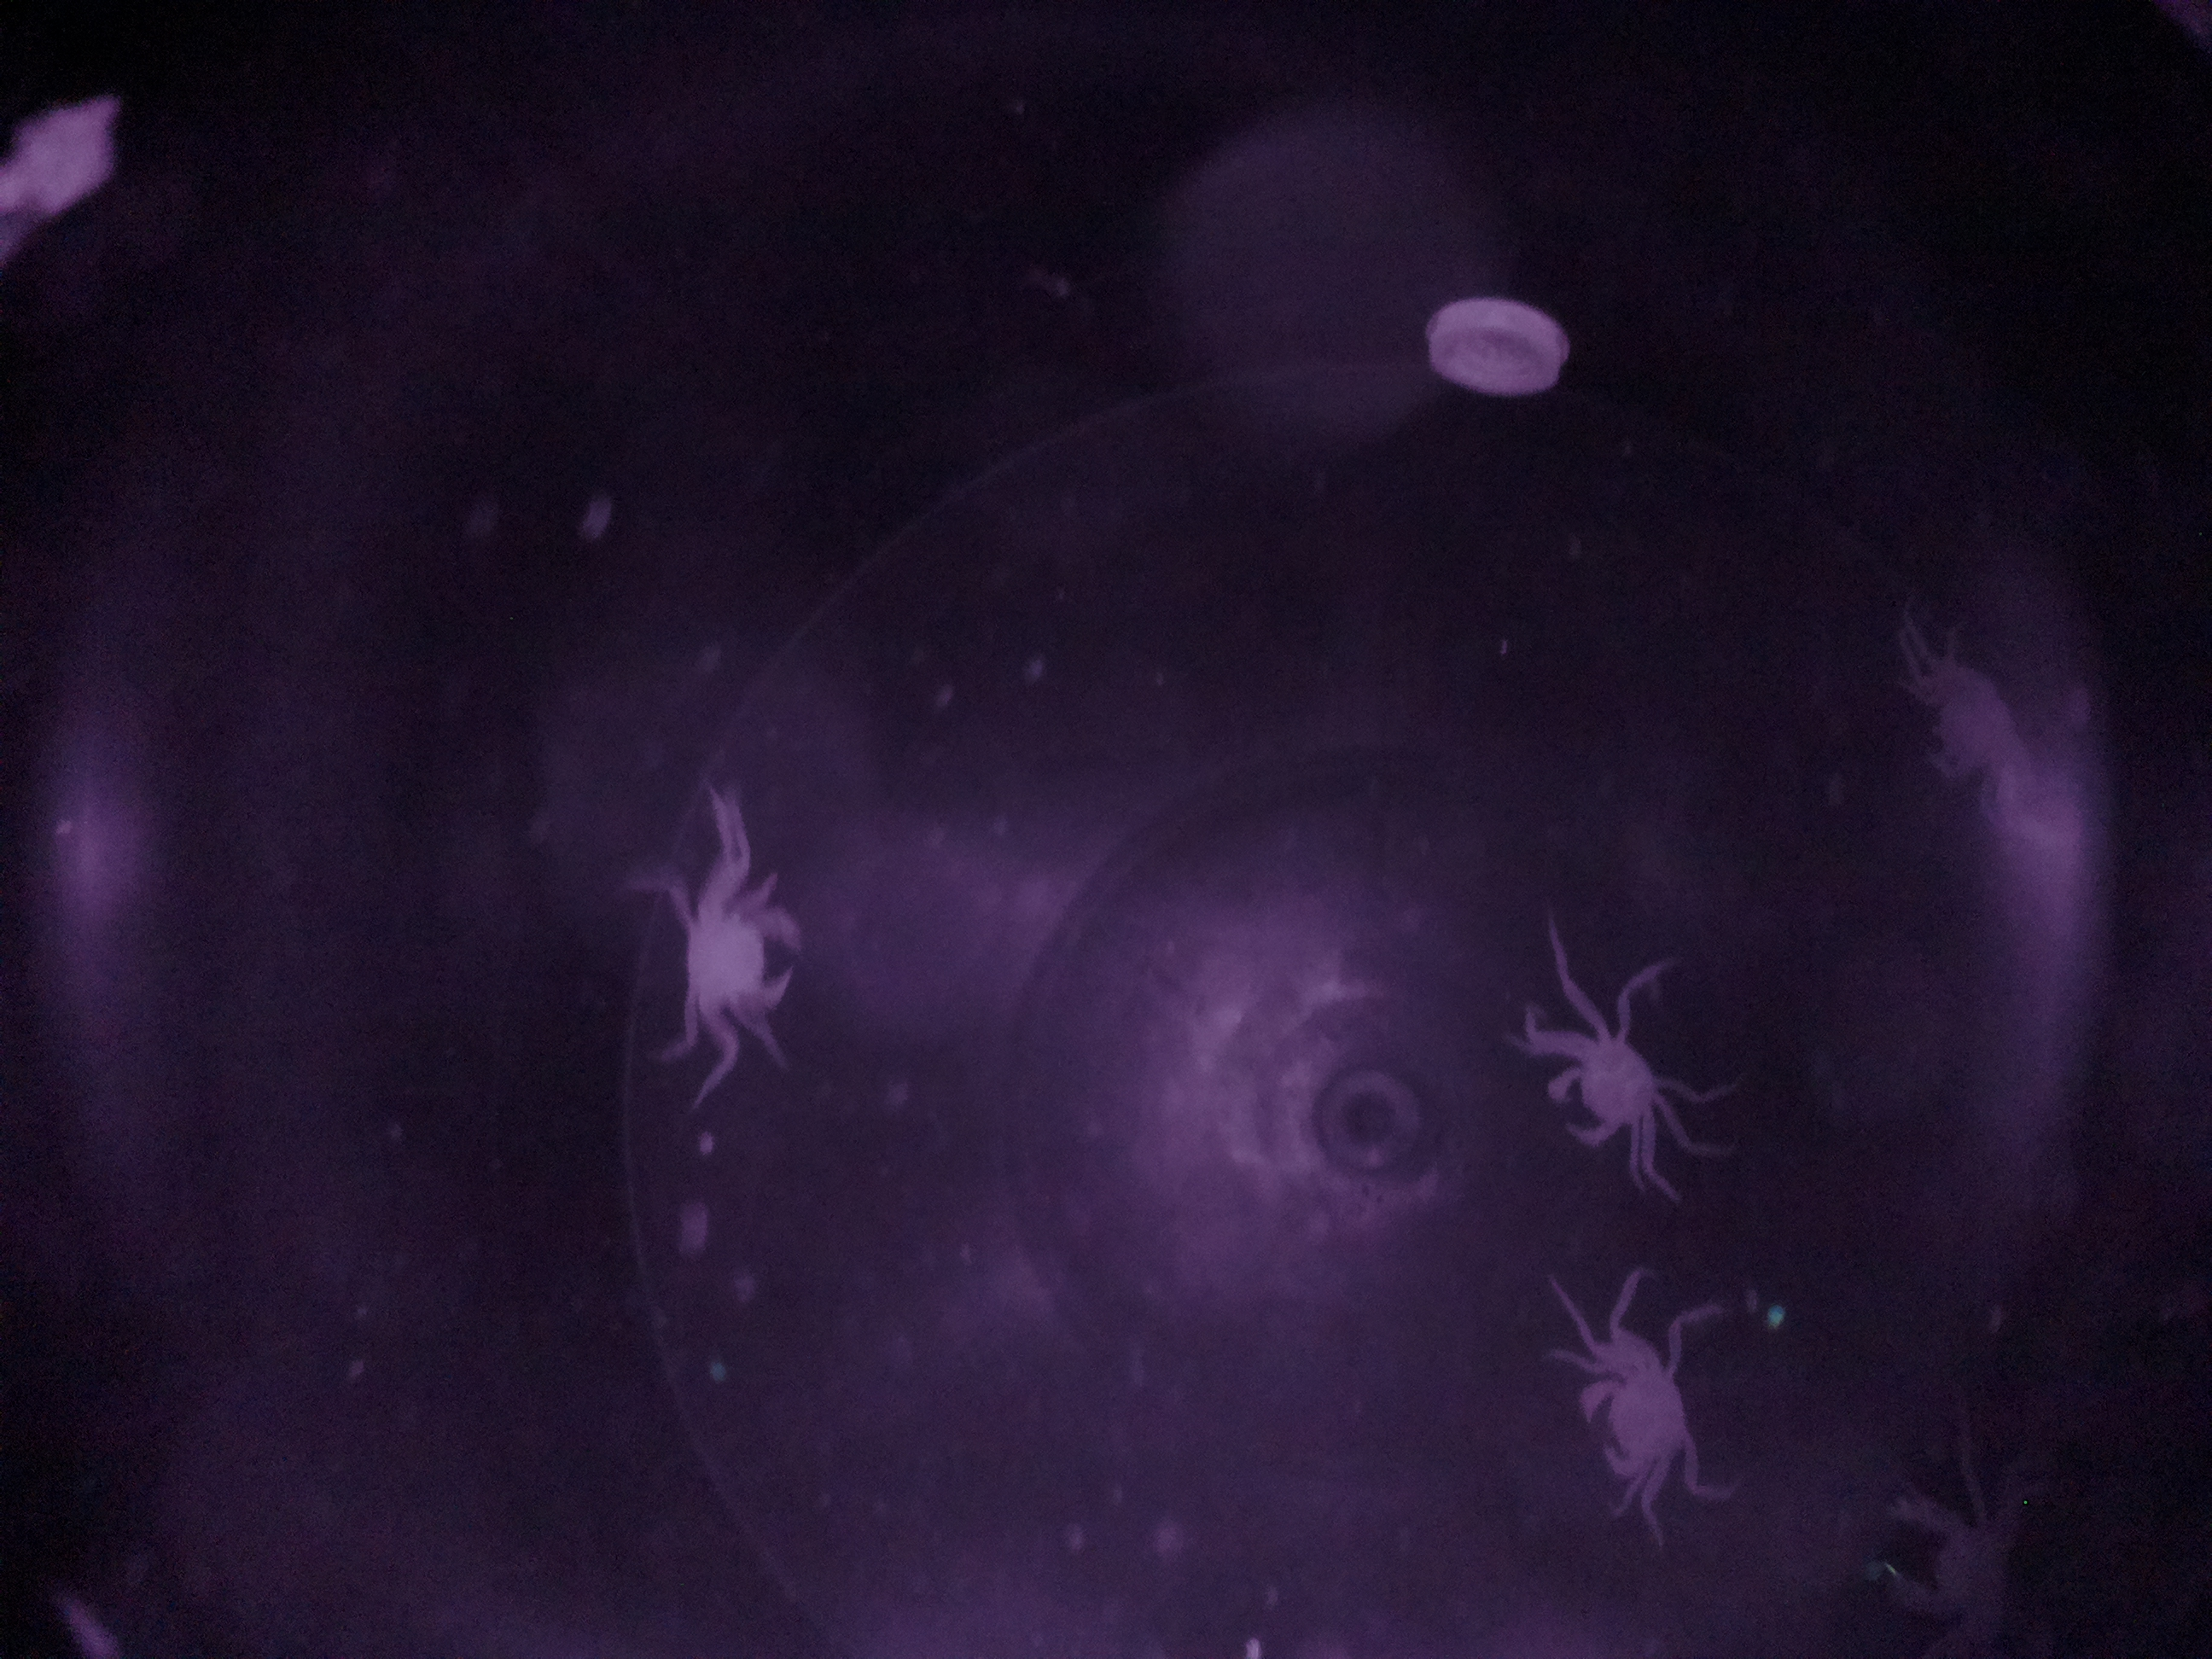Crab: (1536, 993, 1683, 1194), (1568, 1312, 1707, 1511)
